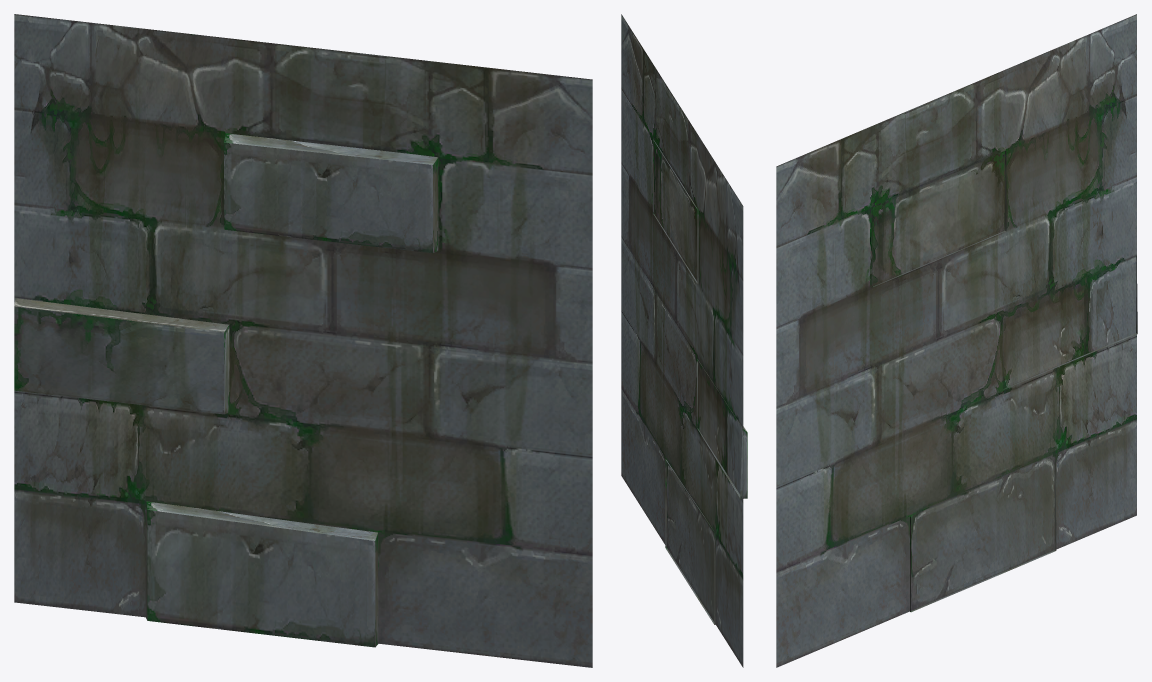
File: stemple_wall_diagonal_02.fbx
3 renders of one model, left to right at view 1: azimuth 30°, elevation 25°; view 2: azimuth 150°, elevation 25°; view 3: azimuth 270°, elevation 25°, orthographic. The views are drawn at different scales.
Visible parts, largest first — view 1: stemple_wall_diagonal_02-0; view 2: stemple_wall_diagonal_02-0; view 3: stemple_wall_diagonal_02-0.
Part boxes in pixels (x1,y1,x2,y2): stemple_wall_diagonal_02-0: (14, 14, 592, 667); stemple_wall_diagonal_02-0: (621, 14, 747, 667); stemple_wall_diagonal_02-0: (776, 14, 1137, 667).
Bounding box in the file's own units: 3.61 × 5.51 × 3.59.
